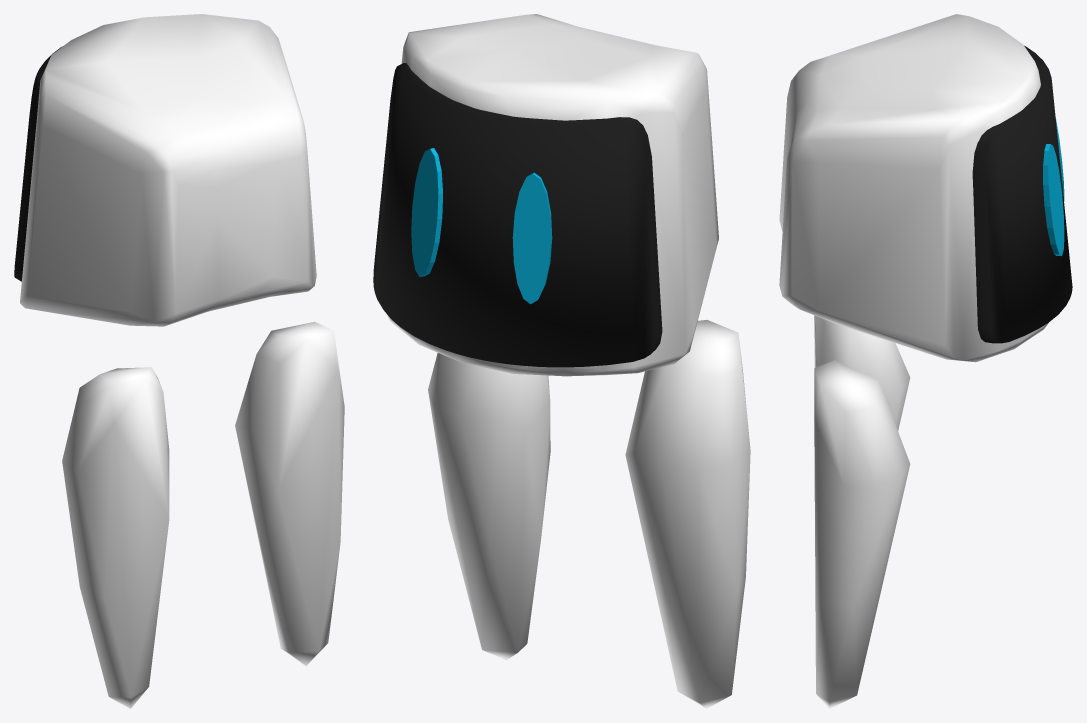
Rendered from worker.fbx.
3 renders of one model, left to right at view 1: azimuth 30°, elevation 25°; view 2: azimuth 150°, elevation 25°; view 3: azimuth 270°, elevation 25°, orthographic. The views are drawn at different scales.
Parts seen in each view (by area): view 1: Robot|Case_L_character.blend|Dupli|4, Robot|Feet_L_character.blend|Dupli|2, Robot|Face_L_character.blend|Dupli|3; view 2: Robot|Face_L_character.blend|Dupli|3, Robot|Feet_L_character.blend|Dupli|2, Robot|Case_L_character.blend|Dupli|4, Robot|Eyes_L_character.blend|Dupli|; view 3: Robot|Case_L_character.blend|Dupli|4, Robot|Feet_L_character.blend|Dupli|2, Robot|Face_L_character.blend|Dupli|3, Robot|Eyes_L_character.blend|Dupli|.
Boxes of the visible parts, x1,y1,x2,y2 form: Robot|Case_L_character.blend|Dupli|4: [20, 14, 316, 326]; Robot|Feet_L_character.blend|Dupli|2: [62, 321, 344, 708]; Robot|Face_L_character.blend|Dupli|3: [14, 46, 62, 281]; Robot|Face_L_character.blend|Dupli|3: [373, 63, 662, 367]; Robot|Feet_L_character.blend|Dupli|2: [428, 320, 750, 708]; Robot|Case_L_character.blend|Dupli|4: [386, 14, 718, 376]; Robot|Eyes_L_character.blend|Dupli|: [411, 148, 552, 304]; Robot|Case_L_character.blend|Dupli|4: [779, 14, 1048, 362]; Robot|Feet_L_character.blend|Dupli|2: [814, 315, 910, 708]; Robot|Face_L_character.blend|Dupli|3: [972, 45, 1072, 343]; Robot|Eyes_L_character.blend|Dupli|: [1043, 118, 1064, 256].
Size of the model in its own units: 114 by 241 by 107.
